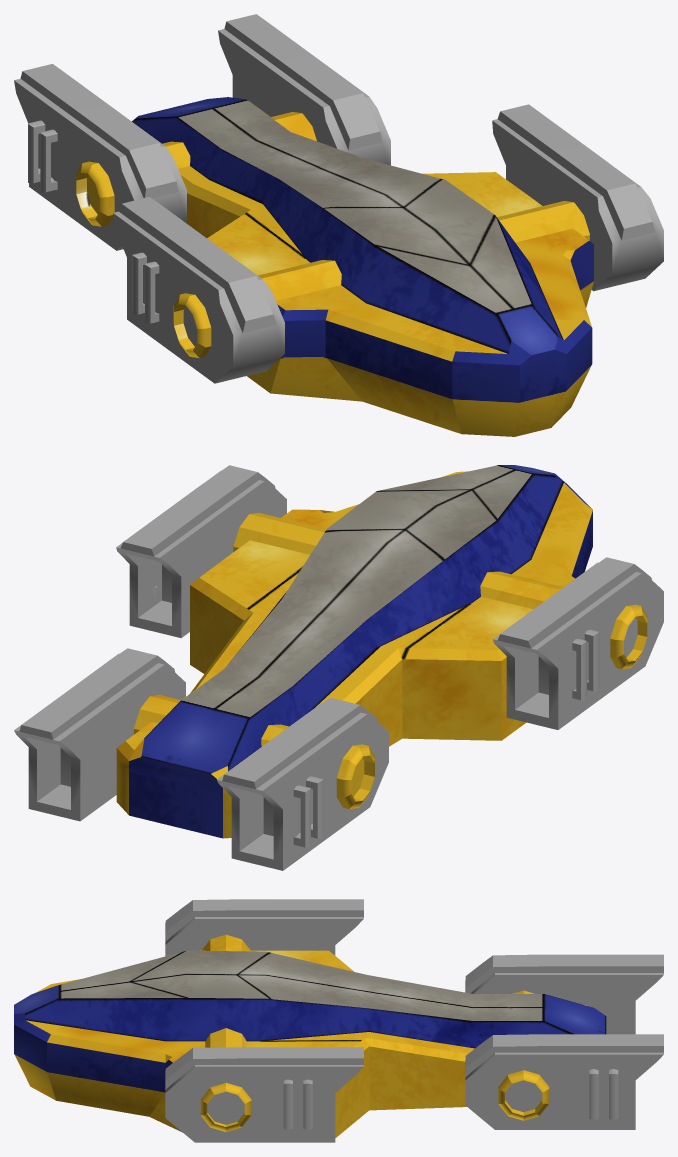
Rendered from SteelCrafterFBX.fbx.
The picture shows the model from 3 angles, top to bottom: view 1: azimuth 30°, elevation 25°; view 2: azimuth 150°, elevation 25°; view 3: azimuth 270°, elevation 25°; orthographic projection. The views are drawn at different scales.
Parts seen in each view (by area): view 1: polySurface387, polySurface360, polySurface361, polySurface359, polySurface362; view 2: polySurface387, polySurface360, polySurface361, polySurface362, polySurface359; view 3: polySurface387, polySurface359, polySurface362, polySurface361, polySurface360.
Boxes of the visible parts, x1=… form: polySurface387: x1=76, y1=97, x2=593, y2=436; polySurface360: x1=113, y1=197, x2=284, y2=383; polySurface361: x1=14, y1=64, x2=186, y2=250; polySurface359: x1=492, y1=104, x2=663, y2=291; polySurface362: x1=218, y1=14, x2=390, y2=165; polySurface387: x1=116, y1=465, x2=647, y2=838; polySurface360: x1=493, y1=557, x2=663, y2=729; polySurface361: x1=217, y1=697, x2=388, y2=870; polySurface362: x1=14, y1=648, x2=185, y2=821; polySurface359: x1=116, y1=465, x2=286, y2=638; polySurface387: x1=14, y1=934, x2=606, y2=1137; polySurface359: x1=165, y1=1047, x2=363, y2=1142; polySurface362: x1=465, y1=1034, x2=663, y2=1129; polySurface361: x1=465, y1=954, x2=663, y2=1034; polySurface360: x1=165, y1=899, x2=363, y2=956.
Size of the model in its own units: 18.66 by 5.17 by 28.98.
